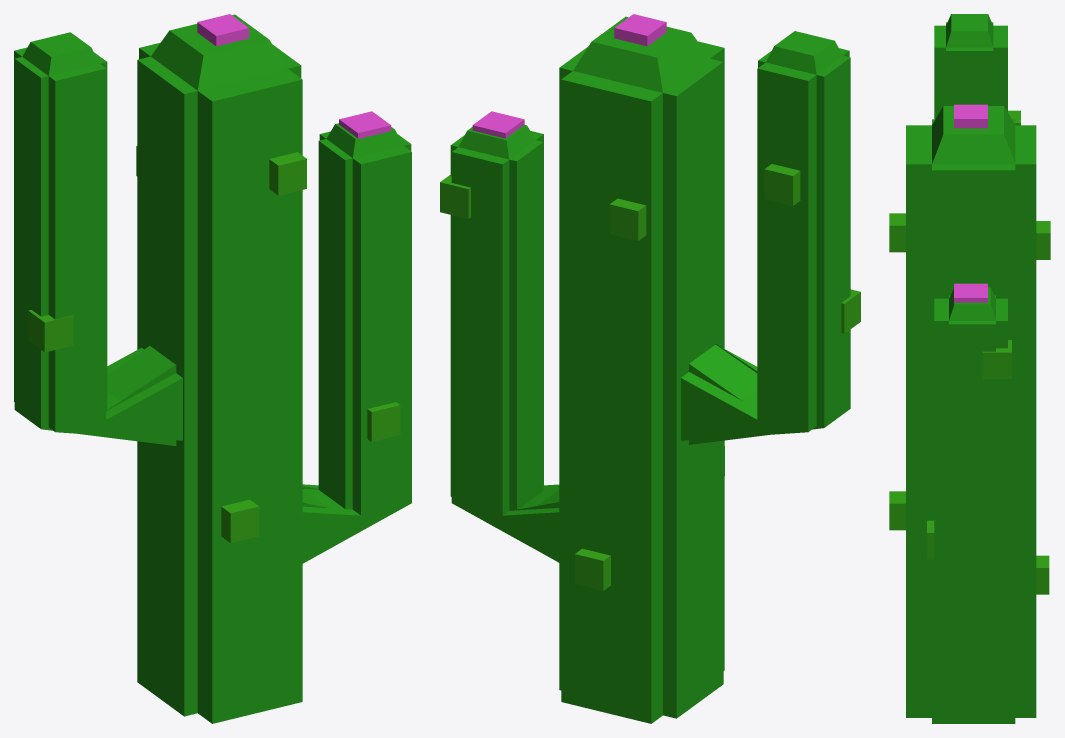
File: new_cactus01.fbx
3 views of the same model, side by side, from view 1: azimuth 30°, elevation 25°; view 2: azimuth 150°, elevation 25°; view 3: azimuth 270°, elevation 25° (orthographic). The views are drawn at different scales.
Parts seen in each view (by area): view 1: Cube.001; view 2: Cube.001; view 3: Cube.001.
Part boxes in pixels (<box>): Cube.001: <box>14,14,411,723</box>; Cube.001: <box>440,14,860,723</box>; Cube.001: <box>889,14,1050,723</box>.
Bounding box in the file's own units: 114 × 197 × 47.48.
